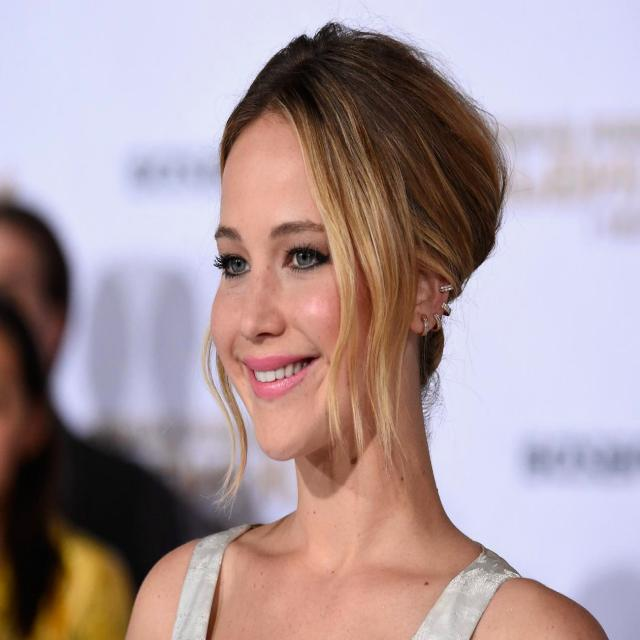adult: (124, 24, 610, 640)
